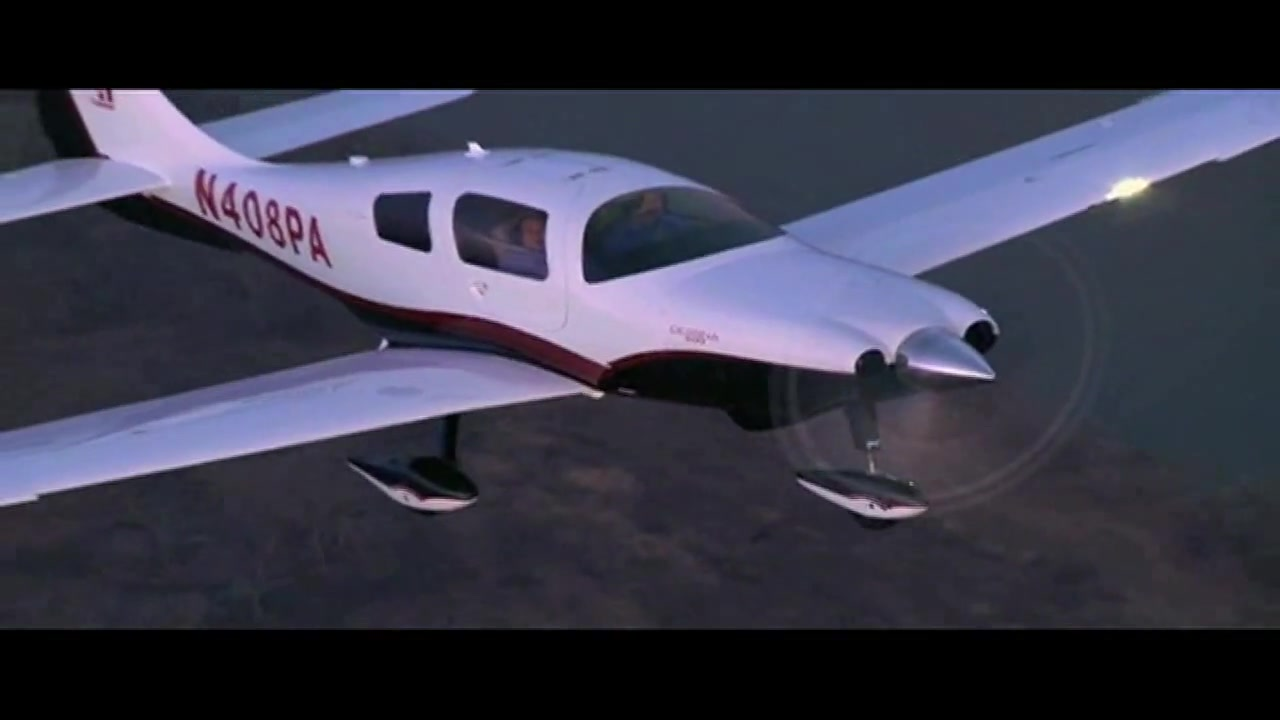aeroplane: (1, 91, 1280, 527)
